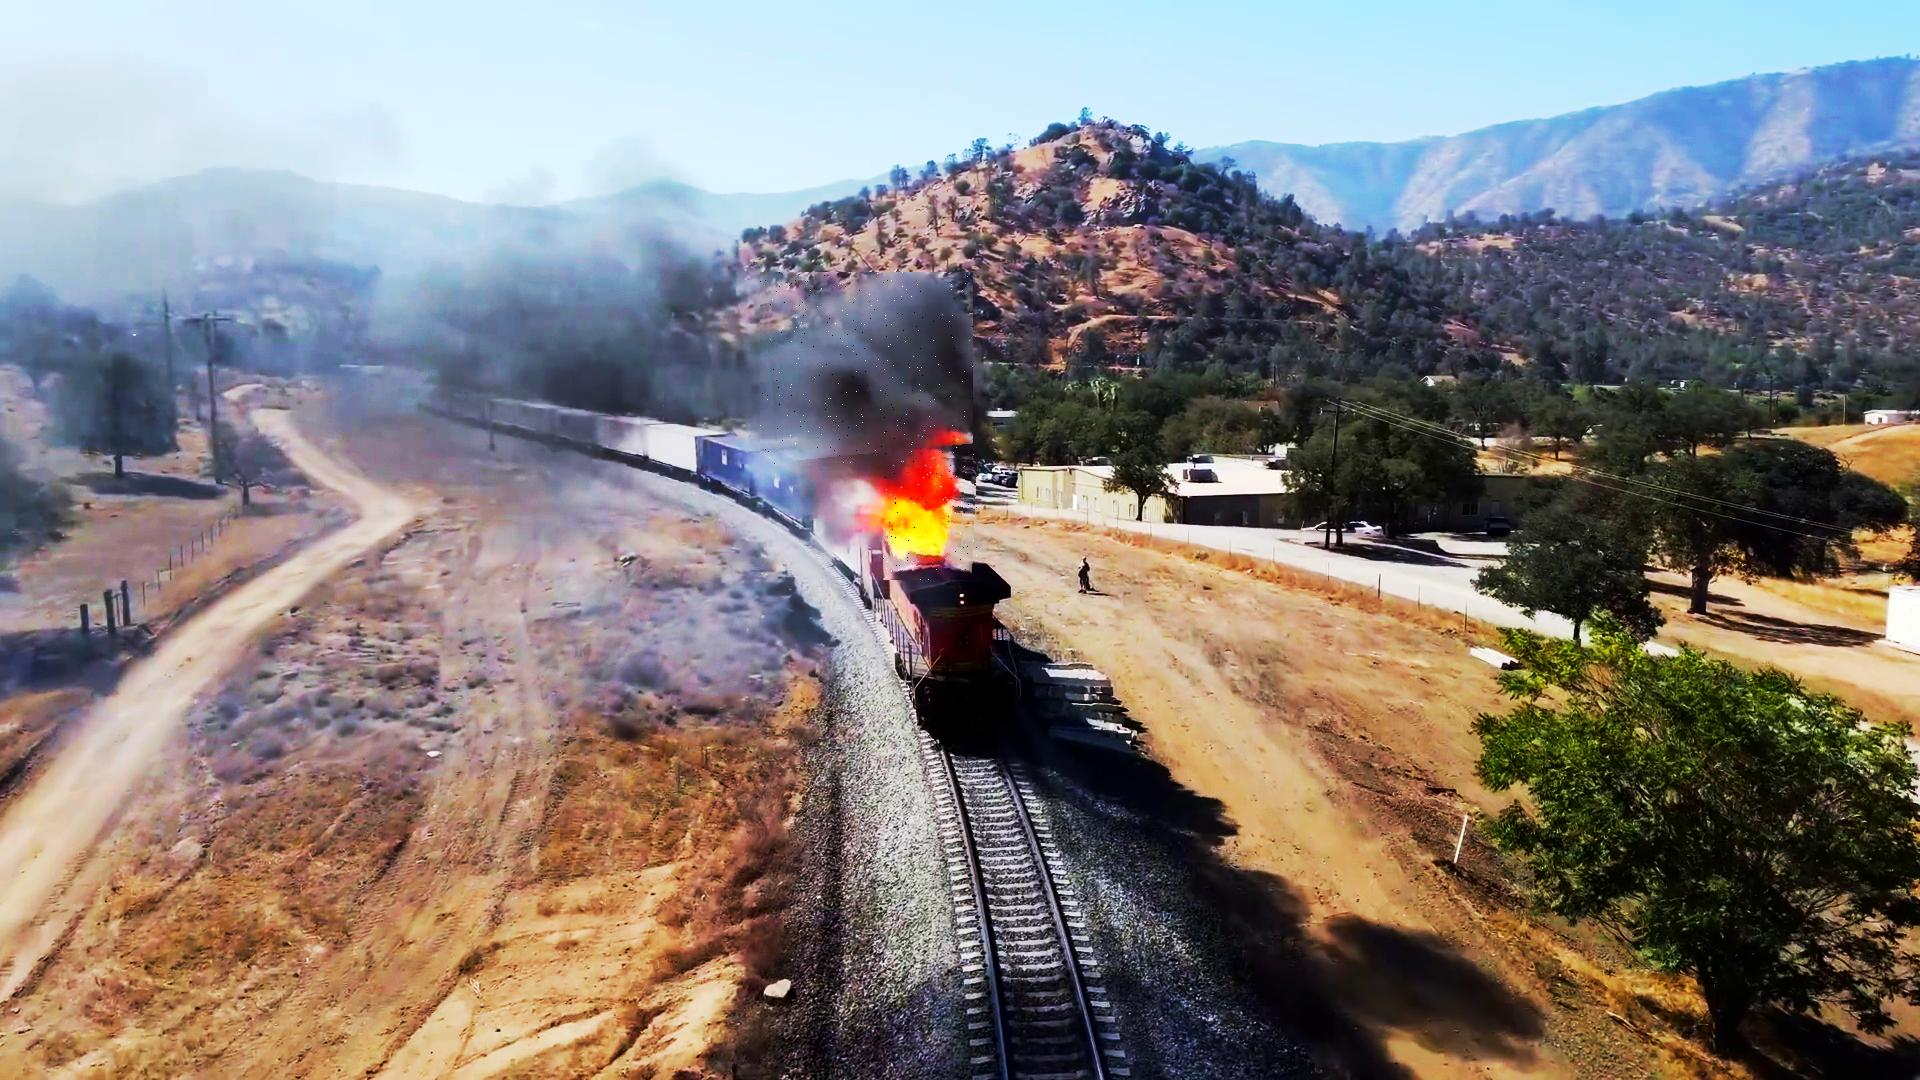fire: (884, 454, 977, 580)
smoke: (761, 273, 973, 464)
